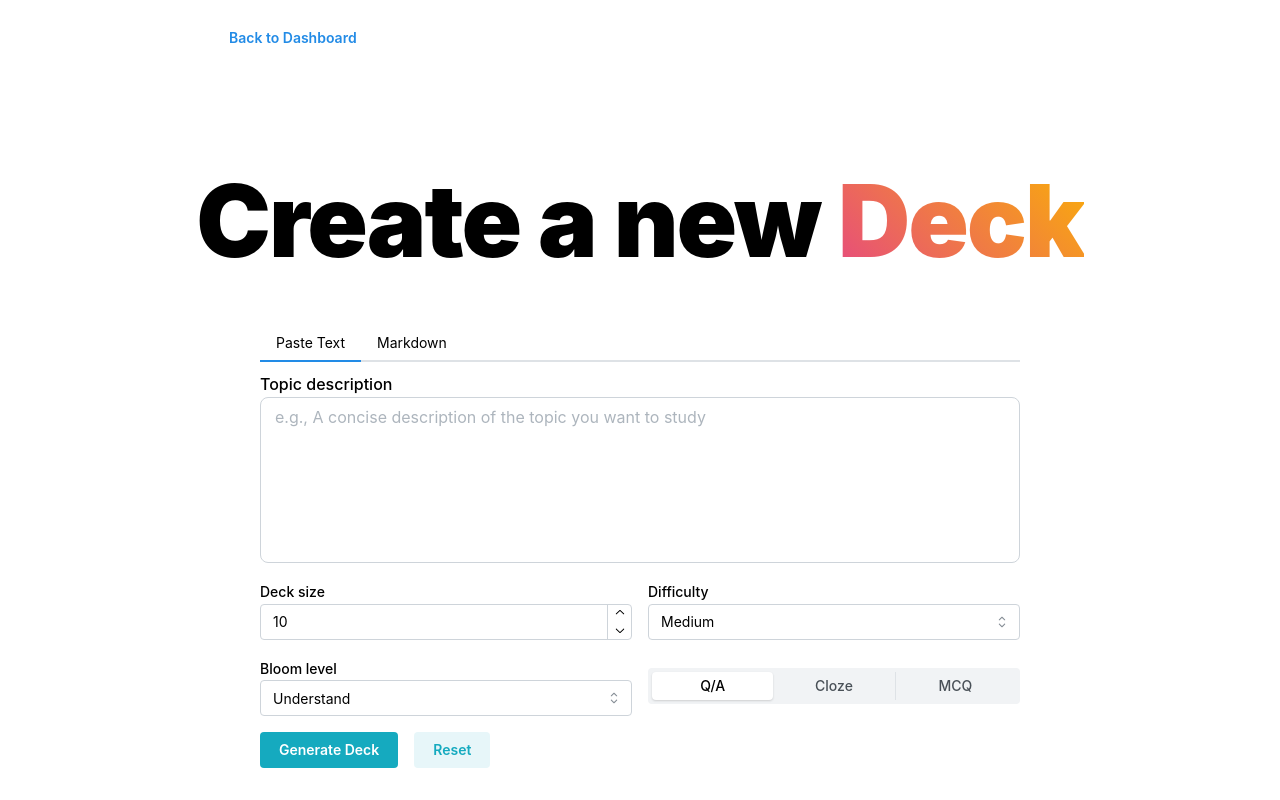
Test: NewDeck component › shows error when trying to submit empty input
Click the button "Generate Deck": click(329, 750) [260, 732, 398, 768]
(page scrolled)
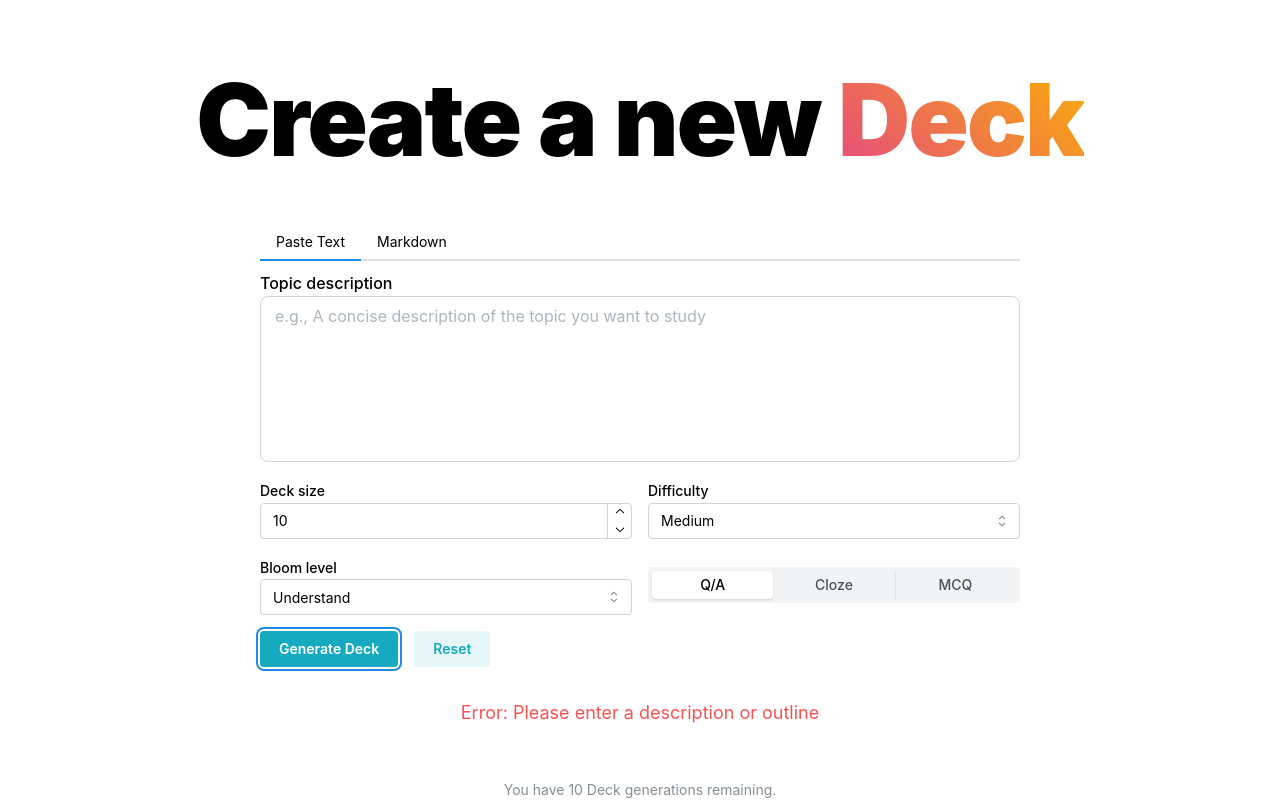
Expected: the text "Error: Please enter a description or outline" is shown, [461, 702, 819, 723]
